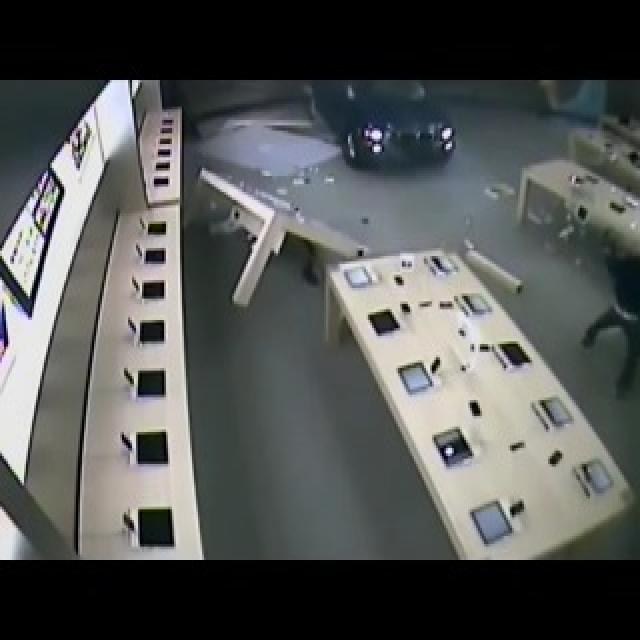thief: (588, 241, 640, 395)
